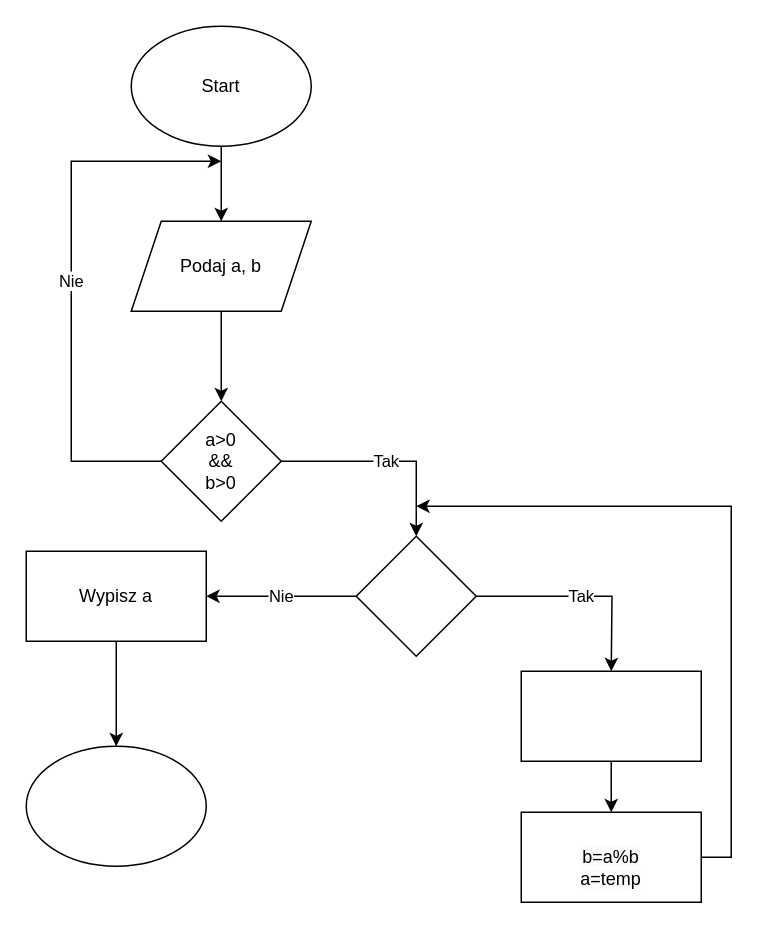
This 770x929 diagram has some shape labels left out. The centre of each missing label's shape, as x and y in pixels:
b!=0: point 415,595
End: point 115,805
temp=b: point 610,715
